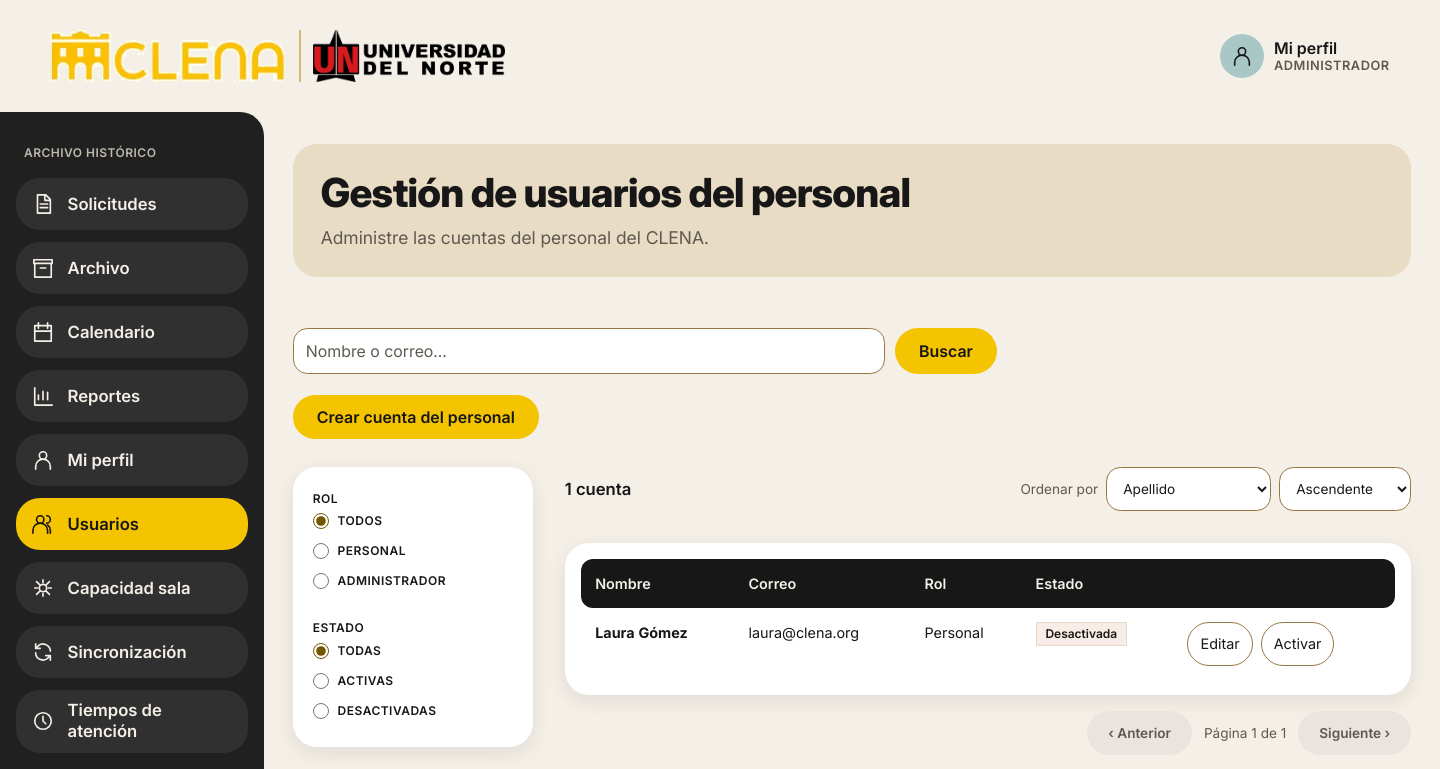
Test: StaffUsersPage (HU-05) › reactivates a deactivated account right away
The image size is (1440, 769).
Click the button with aria-label "Activar la cuenta de Laura Gómez" at [1298, 644], box [1261, 622, 1334, 666]
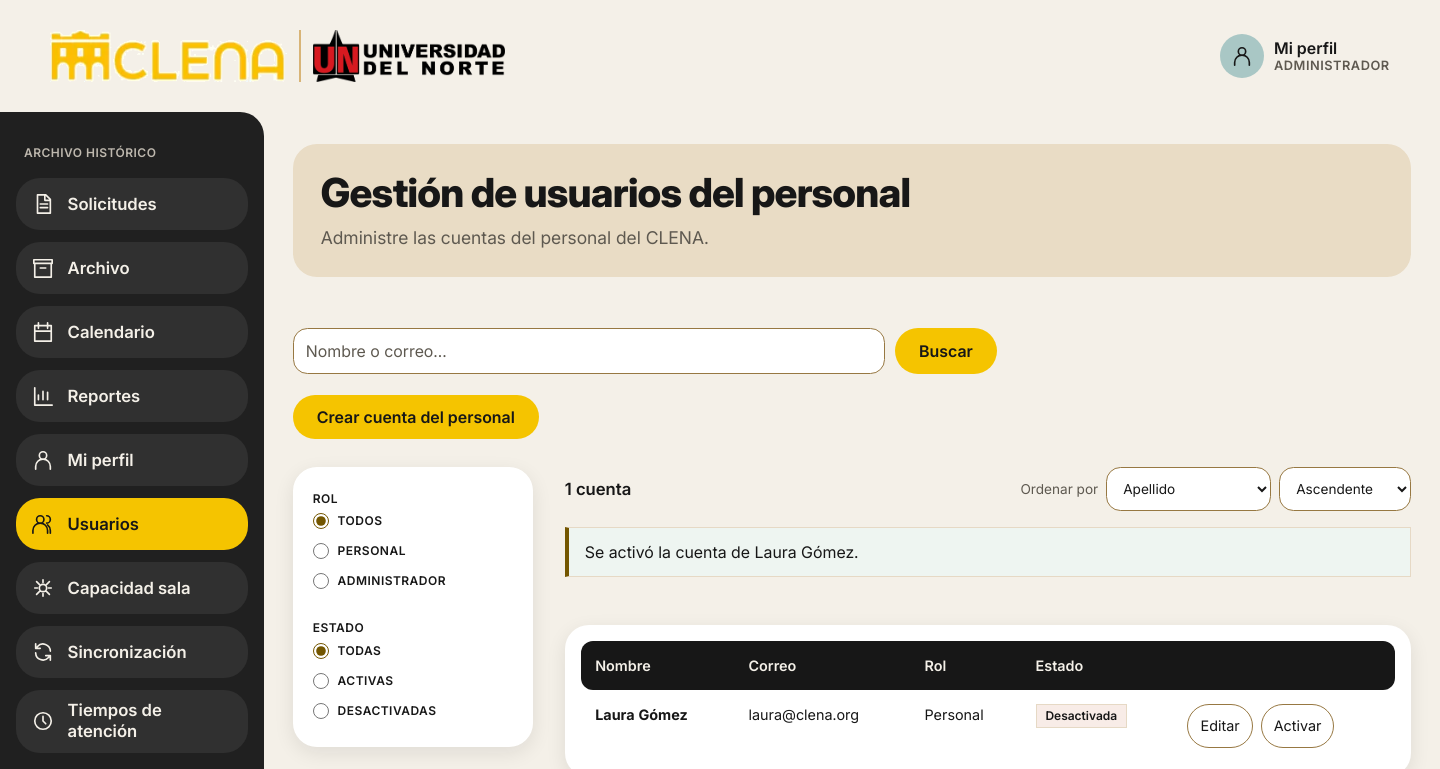
expect the text "Se activó la cuenta de Laura Gómez." is shown: met, box [565, 527, 1411, 577]
